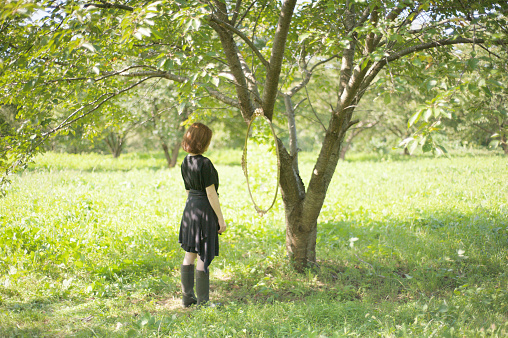em pe: (167, 113, 223, 315)
